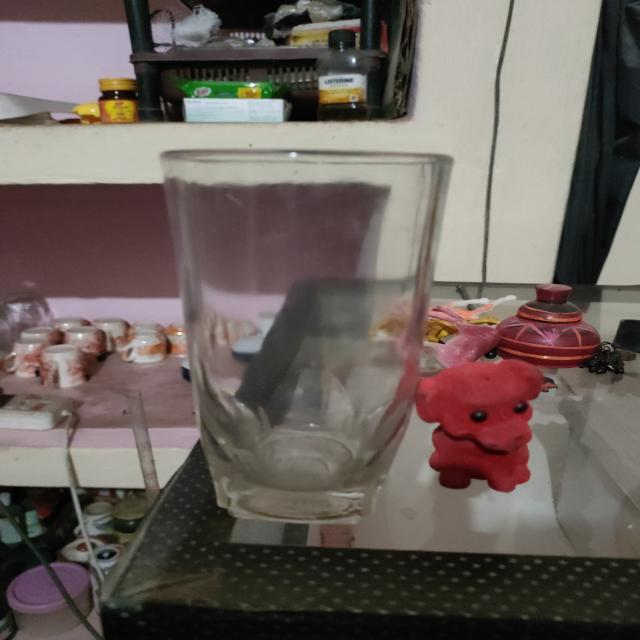Glass: (154, 143, 460, 528)
